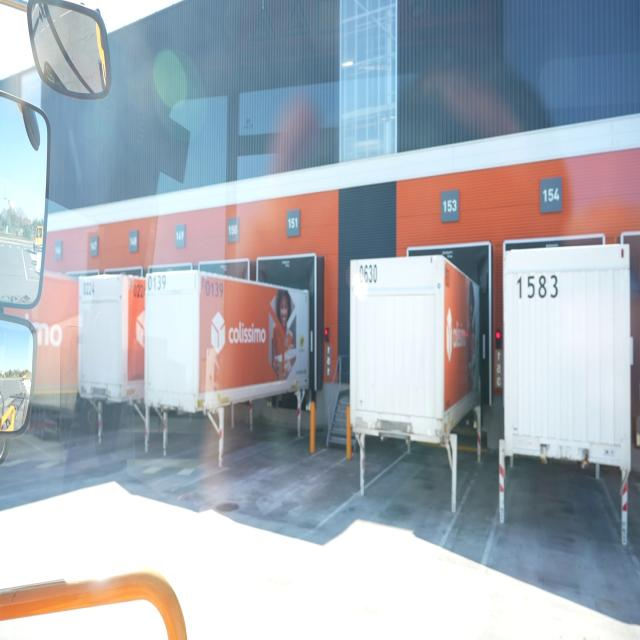Code: (510, 270, 561, 306), (353, 258, 382, 290), (200, 276, 227, 302), (79, 278, 105, 304), (148, 271, 168, 295)
